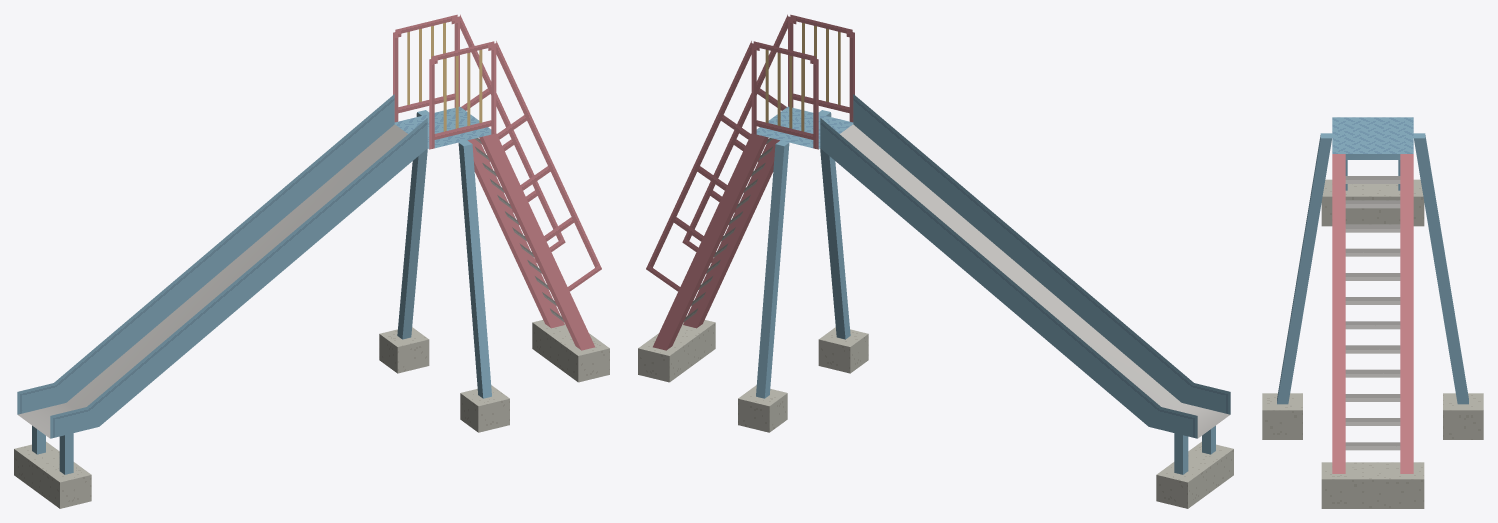
The model's file is 0141_Slide.glb.
3 renders of one model, left to right at view 1: azimuth 30°, elevation 25°; view 2: azimuth 150°, elevation 25°; view 3: azimuth 270°, elevation 25°, orthographic. The views are drawn at different scales.
Parts seen in each view (by area): view 1: part_0; view 2: part_0; view 3: part_0.
Boxes of the visible parts, left/top/right/bottom form: part_0: left=14, top=14, right=609, bottom=508; part_0: left=638, top=14, right=1233, bottom=508; part_0: left=1262, top=117, right=1483, bottom=508.
Bounding box in the file's own units: 4.81 × 2.97 × 1.49.
Materials: 1 (1 with a texture image).
